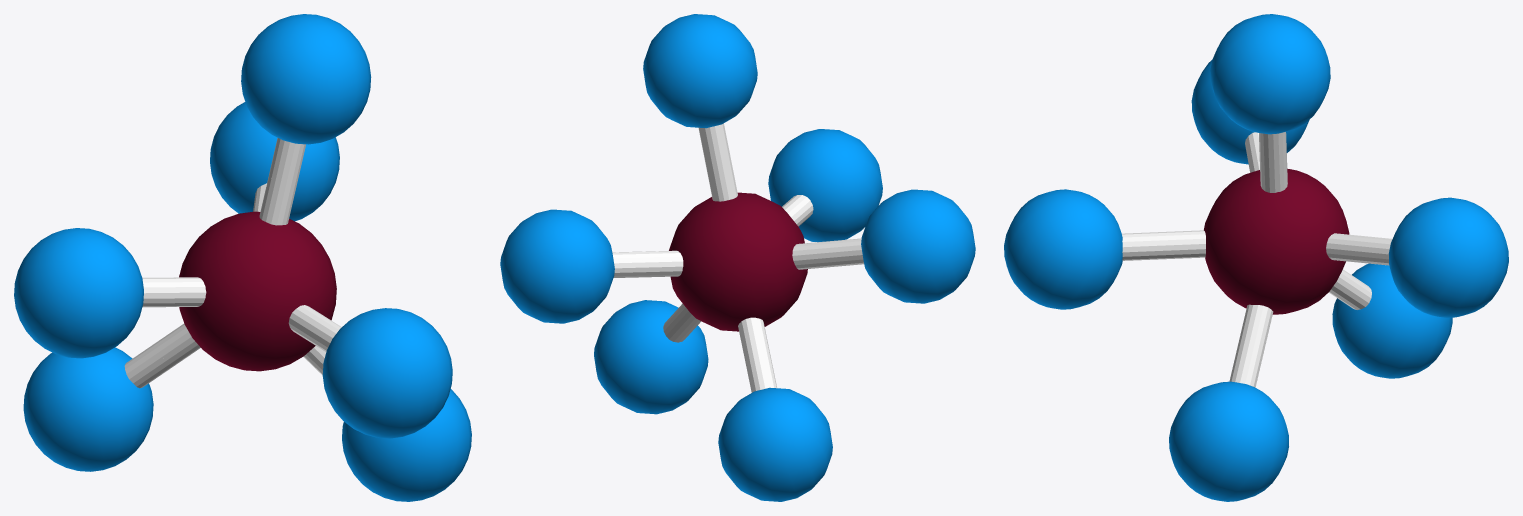
File: hexafluoreto_de_enxofre.obj
3 views of the same model, side by side, from view 1: azimuth 30°, elevation 25°; view 2: azimuth 150°, elevation 25°; view 3: azimuth 270°, elevation 25° (orthographic). The views are drawn at different scales.
Parts seen in each view (by area): view 1: Shape_Sphere_Shape_Sphere.001, Shape_Sphere.005_Shape_Sphere.006, Shape_Sphere.004_Shape_Sphere.005, Shape_Sphere.001_Shape_Sphere.002, Shape_Sphere.002_Shape_Sphere.003, Shape_Sphere.003_Shape_Sphere.004, Shape_Sphere.006_Shape_Sphere, Shape_Cylinder.007, Shape_Cylinder.006, Shape_Cylinder.002, Shape_Cylinder.001, Shape_Cylinder.003 (+3 smaller); view 2: Shape_Sphere_Shape_Sphere.001, Shape_Sphere.004_Shape_Sphere.005, Shape_Sphere.001_Shape_Sphere.002, Shape_Sphere.006_Shape_Sphere, Shape_Sphere.002_Shape_Sphere.003, Shape_Sphere.003_Shape_Sphere.004, Shape_Sphere.005_Shape_Sphere.006, Shape_Cylinder.007, Shape_Cylinder.006, Shape_Cylinder.003, Shape_Cylinder.001, Shape_Cylinder.011 (+5 smaller); view 3: Shape_Sphere_Shape_Sphere.001, Shape_Sphere.004_Shape_Sphere.005, Shape_Sphere.003_Shape_Sphere.004, Shape_Sphere.006_Shape_Sphere, Shape_Sphere.005_Shape_Sphere.006, Shape_Sphere.002_Shape_Sphere.003, Shape_Sphere.001_Shape_Sphere.002, Shape_Cylinder.008, Shape_Cylinder.009, Shape_Cylinder.005, Shape_Cylinder.004, Shape_Cylinder.011 (+4 smaller).
Boxes of the visible parts, bbox=[...] form: Shape_Sphere_Shape_Sphere.001: bbox=[179, 211, 336, 371]; Shape_Sphere.005_Shape_Sphere.006: bbox=[322, 308, 452, 438]; Shape_Sphere.004_Shape_Sphere.005: bbox=[241, 14, 371, 144]; Shape_Sphere.001_Shape_Sphere.002: bbox=[14, 228, 143, 358]; Shape_Sphere.002_Shape_Sphere.003: bbox=[23, 347, 153, 471]; Shape_Sphere.003_Shape_Sphere.004: bbox=[342, 389, 471, 501]; Shape_Sphere.006_Shape_Sphere: bbox=[210, 102, 339, 221]; Shape_Cylinder.007: bbox=[259, 176, 297, 225]; Shape_Cylinder.006: bbox=[269, 138, 305, 184]; Shape_Cylinder.002: bbox=[124, 341, 175, 388]; Shape_Cylinder.001: bbox=[162, 277, 206, 307]; Shape_Cylinder.003: bbox=[157, 323, 200, 365]; Shape_Sphere_Shape_Sphere.001: bbox=[669, 192, 807, 331]; Shape_Sphere.004_Shape_Sphere.005: bbox=[643, 14, 757, 128]; Shape_Sphere.001_Shape_Sphere.002: bbox=[861, 189, 975, 303]; Shape_Sphere.006_Shape_Sphere: bbox=[500, 209, 614, 323]; Shape_Sphere.002_Shape_Sphere.003: bbox=[718, 387, 832, 501]; Shape_Sphere.003_Shape_Sphere.004: bbox=[594, 300, 708, 414]; Shape_Sphere.005_Shape_Sphere.006: bbox=[768, 129, 882, 242]; Shape_Cylinder.007: bbox=[705, 159, 737, 201]; Shape_Cylinder.006: bbox=[698, 123, 730, 164]; Shape_Cylinder.003: bbox=[738, 317, 770, 360]; Shape_Cylinder.001: bbox=[792, 241, 833, 269]; Shape_Cylinder.011: bbox=[643, 250, 683, 277]; Shape_Sphere_Shape_Sphere.001: bbox=[1204, 168, 1349, 314]; Shape_Sphere.004_Shape_Sphere.005: bbox=[1210, 14, 1330, 134]; Shape_Sphere.003_Shape_Sphere.004: bbox=[1169, 381, 1288, 501]; Shape_Sphere.006_Shape_Sphere: bbox=[1388, 197, 1508, 317]; Shape_Sphere.005_Shape_Sphere.006: bbox=[1004, 189, 1122, 309]; Shape_Sphere.002_Shape_Sphere.003: bbox=[1332, 263, 1452, 378]; Shape_Sphere.001_Shape_Sphere.002: bbox=[1191, 59, 1309, 164]; Shape_Cylinder.008: bbox=[1122, 232, 1164, 260]; Shape_Cylinder.009: bbox=[1163, 230, 1205, 259]; Shape_Cylinder.005: bbox=[1238, 304, 1273, 349]; Shape_Cylinder.004: bbox=[1229, 343, 1264, 387]; Shape_Cylinder.011: bbox=[1326, 233, 1367, 263].
Bounding box in the file's own units: 3.34 × 3.56 × 3.7.
